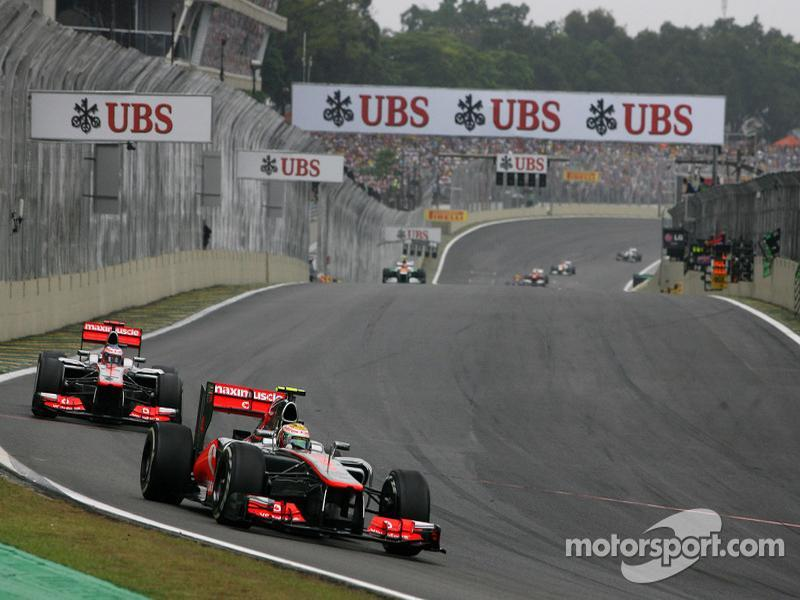f1: (146, 373, 447, 563), (38, 308, 183, 427)
